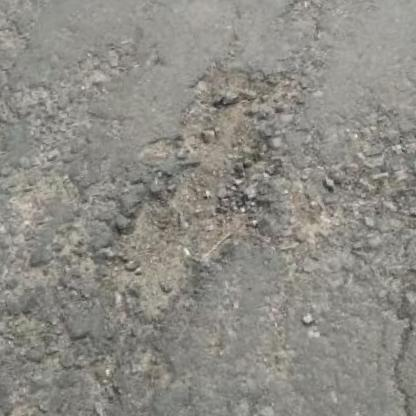pothole: (62, 39, 351, 322)
